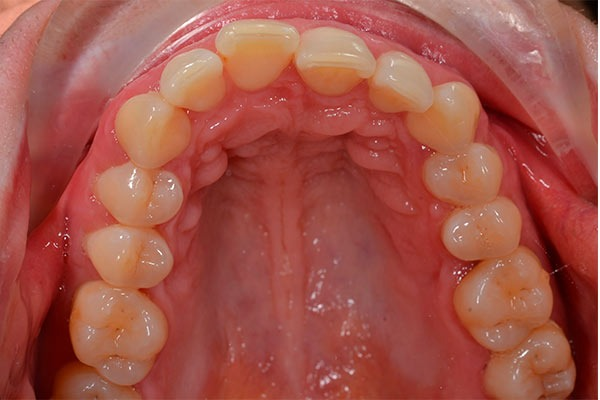UL1BC_healthy: (424, 148, 500, 201)
UL1M_decay: (457, 257, 553, 349)
UL2BC_healthy: (442, 202, 521, 257)
UL2M_decay: (490, 335, 574, 398)
ULCI_healthy: (298, 29, 375, 94)
ULC_healthy: (409, 82, 479, 153)
ULLI_healthy: (374, 51, 433, 113)
UR1BC_healthy: (98, 167, 183, 226)
UR1M_decay: (72, 287, 165, 385)
UR2BC_healthy: (89, 227, 174, 286)
URCI_healthy: (217, 20, 296, 89)
URC_healthy: (116, 96, 188, 167)
URLI_healthy: (162, 49, 221, 108)
